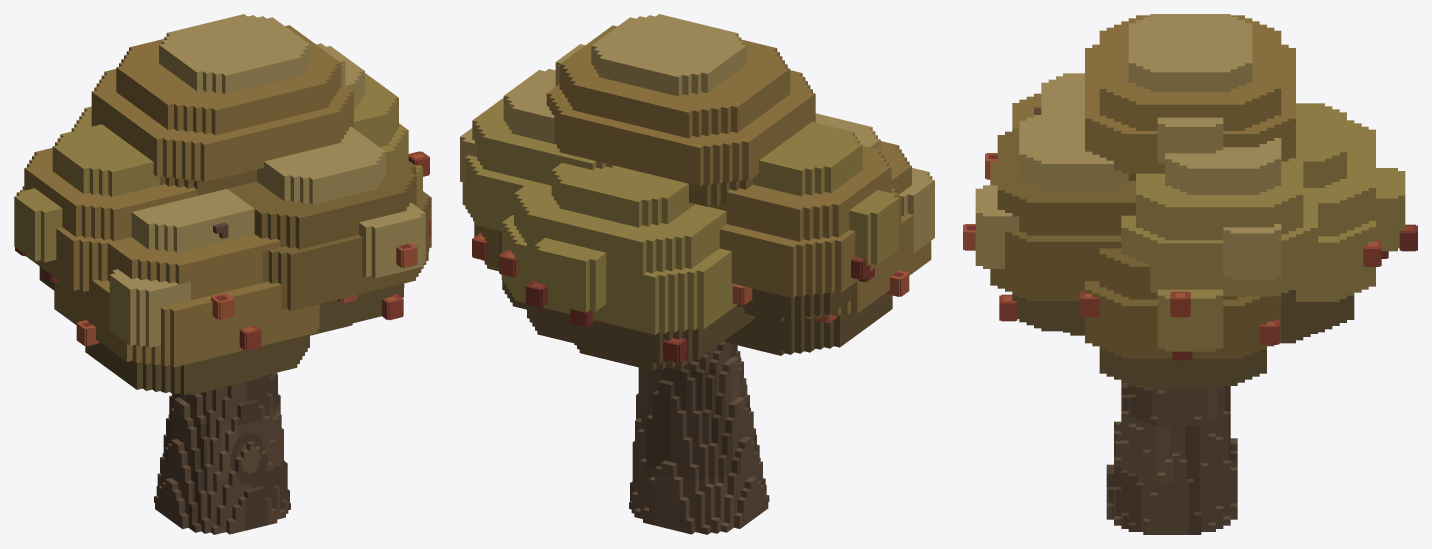
File: apple_ancient_autumn_fruiting.glb
The picture shows the model from 3 angles, left to right: view 1: azimuth 30°, elevation 25°; view 2: azimuth 150°, elevation 25°; view 3: azimuth 270°, elevation 25°; orthographic projection. The views are drawn at different scales.
Visible parts, largest first — view 1: VoxelVisual; view 2: VoxelVisual; view 3: VoxelVisual.
Boxes of the visible parts, left/top/right/bottom form: VoxelVisual: left=14, top=14, right=431, bottom=534; VoxelVisual: left=460, top=14, right=934, bottom=534; VoxelVisual: left=963, top=14, right=1417, bottom=534.
Size of what is drawn, in the model's own units: 16.69 by 18 by 15.62.
